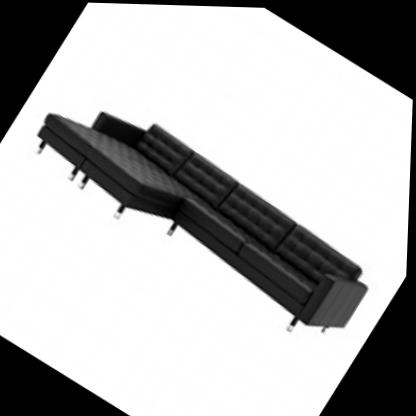Sofa: (0, 57, 402, 375)
